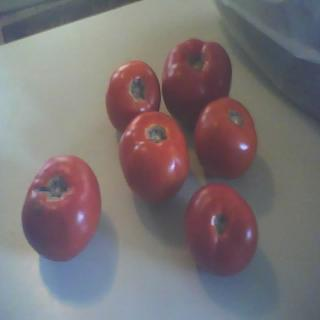Tomato: (20, 156, 101, 260), (115, 104, 192, 208), (184, 182, 260, 278), (161, 38, 231, 128), (195, 98, 257, 178), (105, 58, 162, 133)
